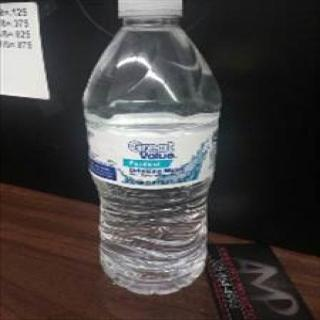Plastic-bottle: (74, 1, 225, 299)
